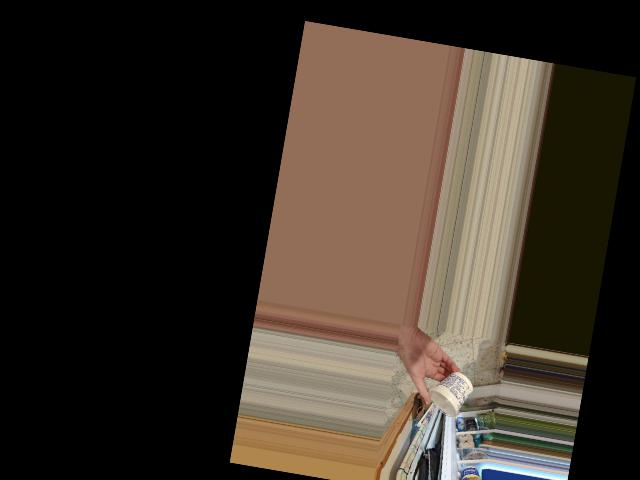cotage: (427, 369, 473, 419)
